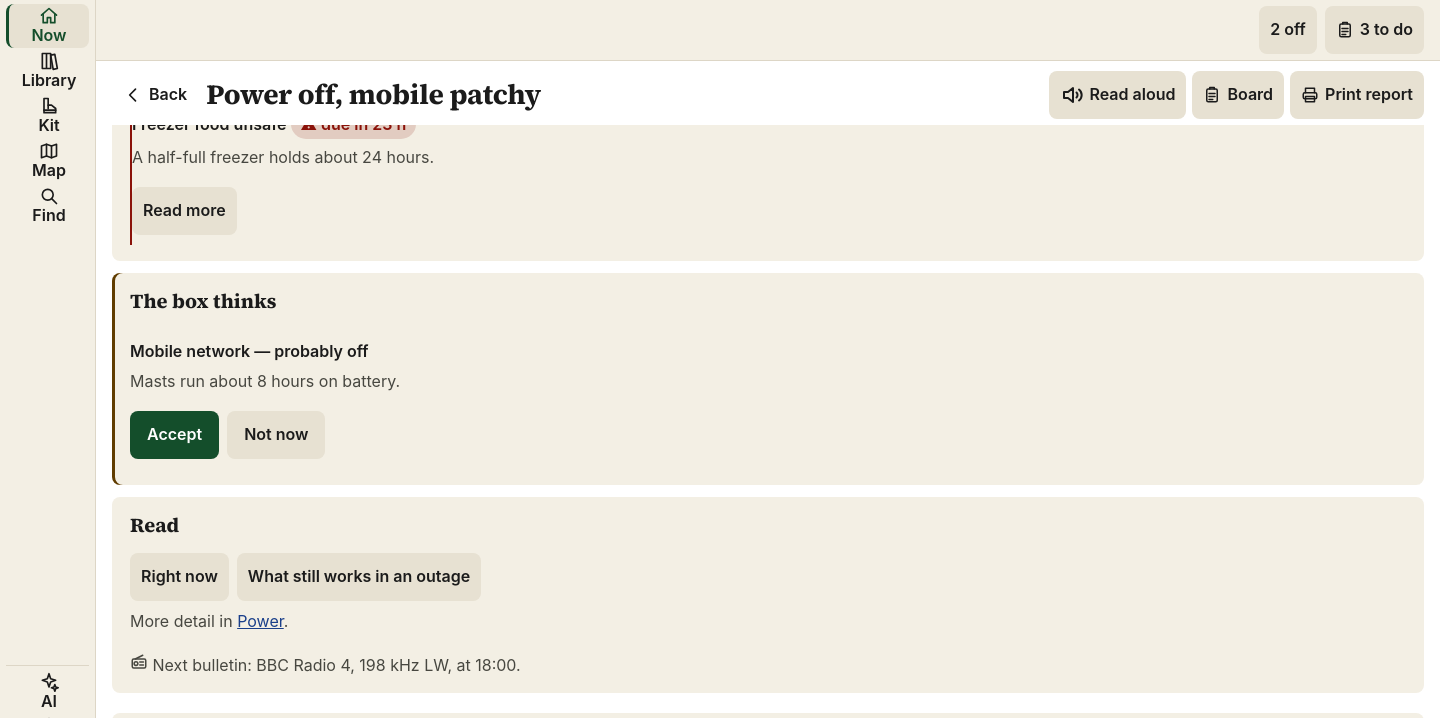
Scenario: the sheet: the briefing › dismisses a guess with Not now without writing anything
(page scrolled)
Step 1. Click the button "Not now" → x=276, y=435, box [227,411,325,459]
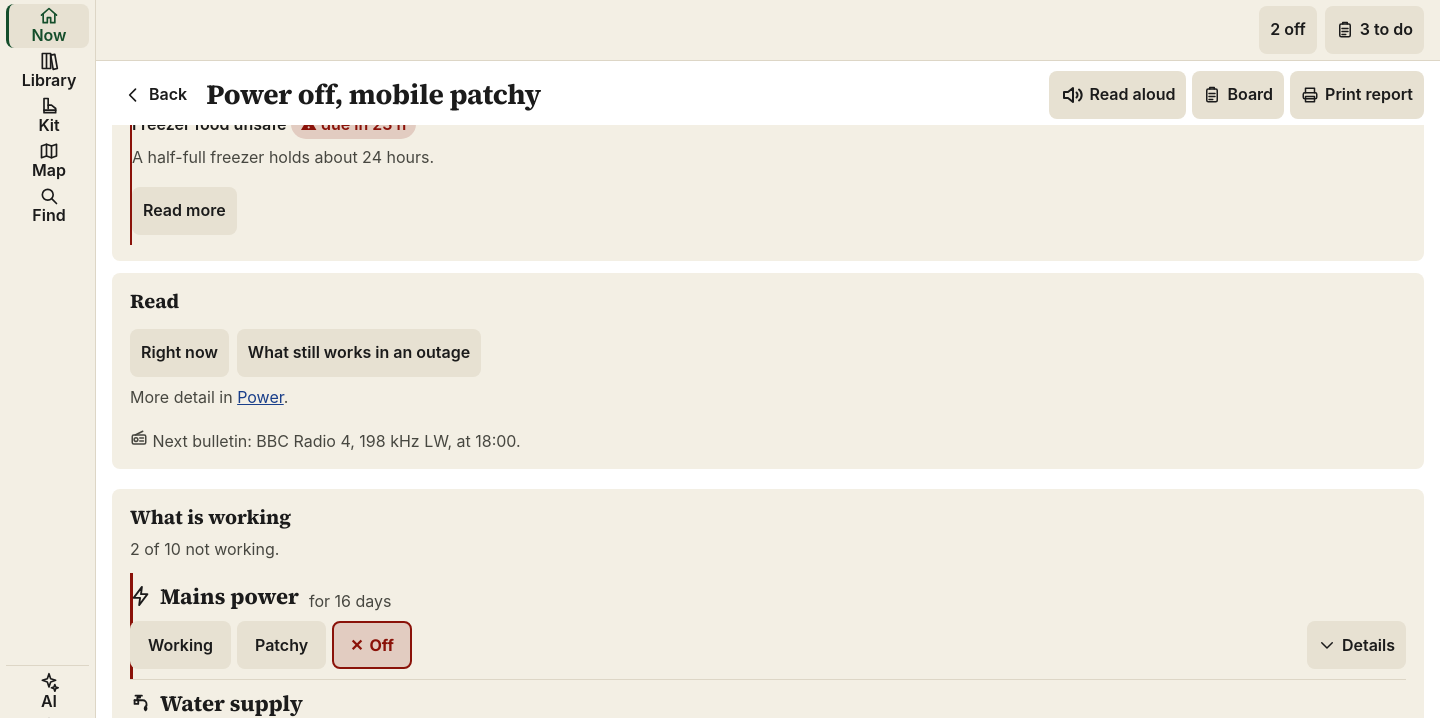
Check: the heading "The box thinks" is gone
